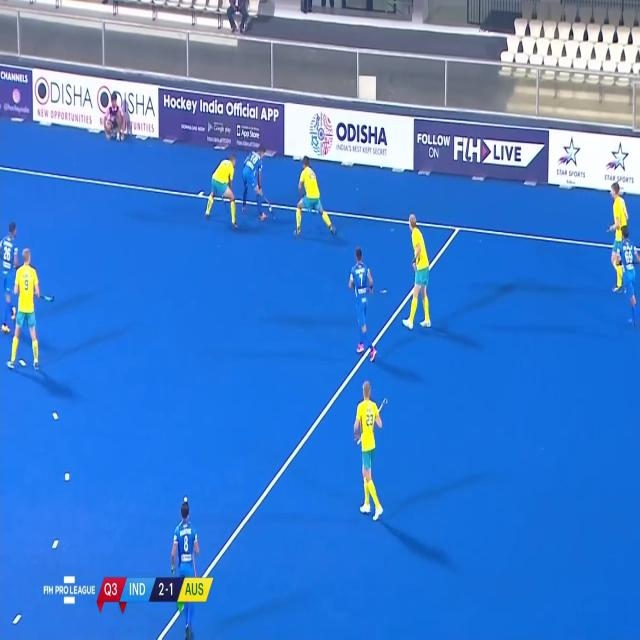ball: (266, 204, 275, 216)
